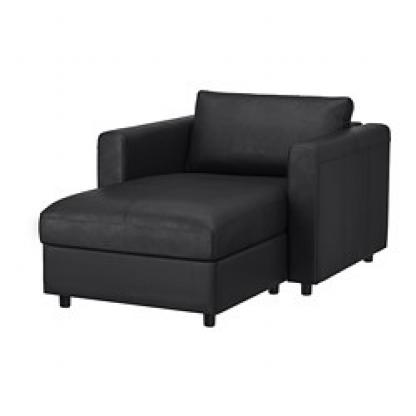Sofa: (34, 76, 390, 340)
